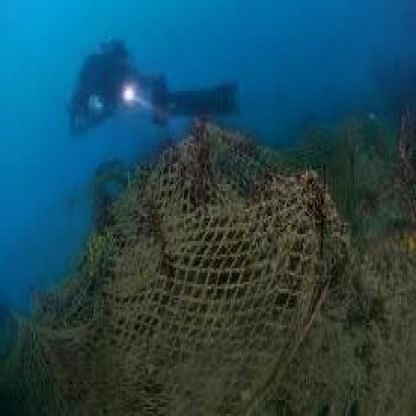net: (11, 138, 399, 416)
